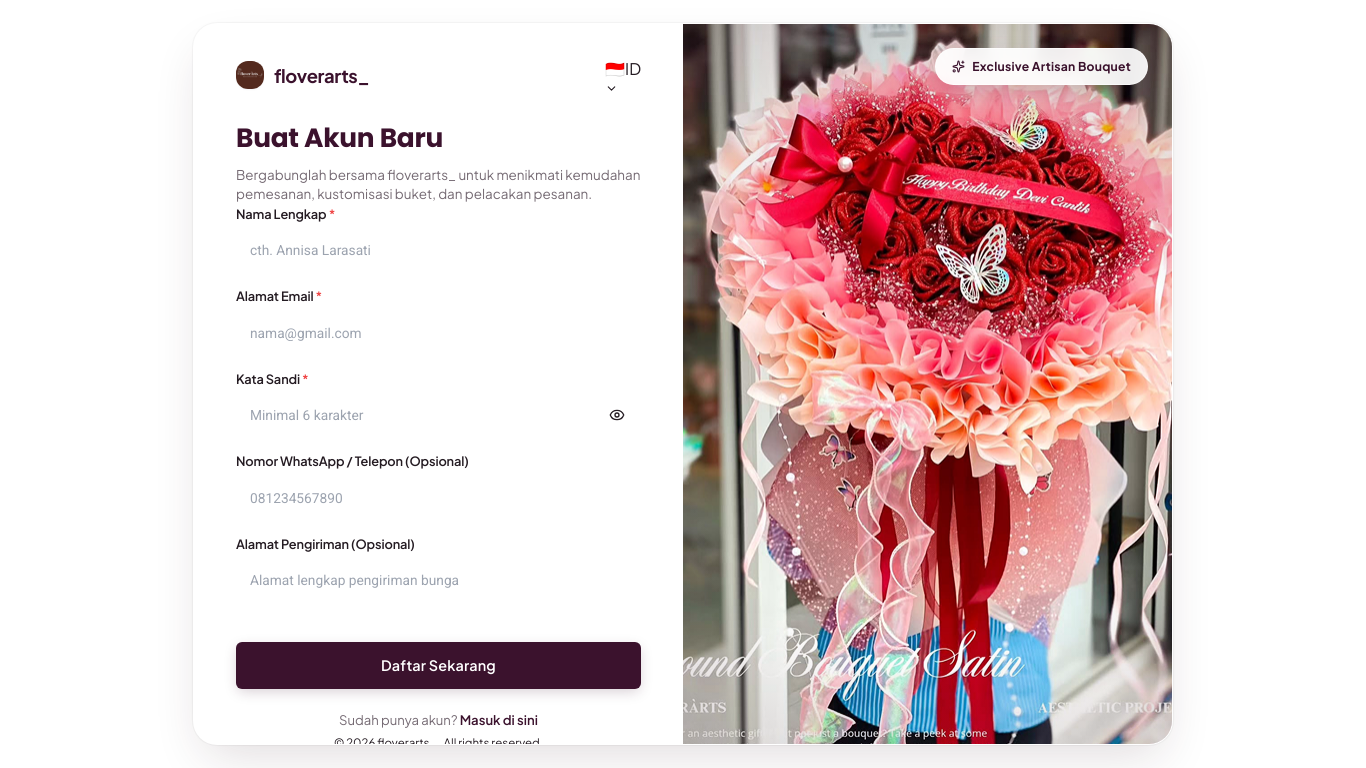
RegisterForm Component › harus memvalidasi field yang kosong secara defensif
Click the button "Daftar Sekarang" at [438, 666], box x1=236 y1=642 x2=641 y2=689
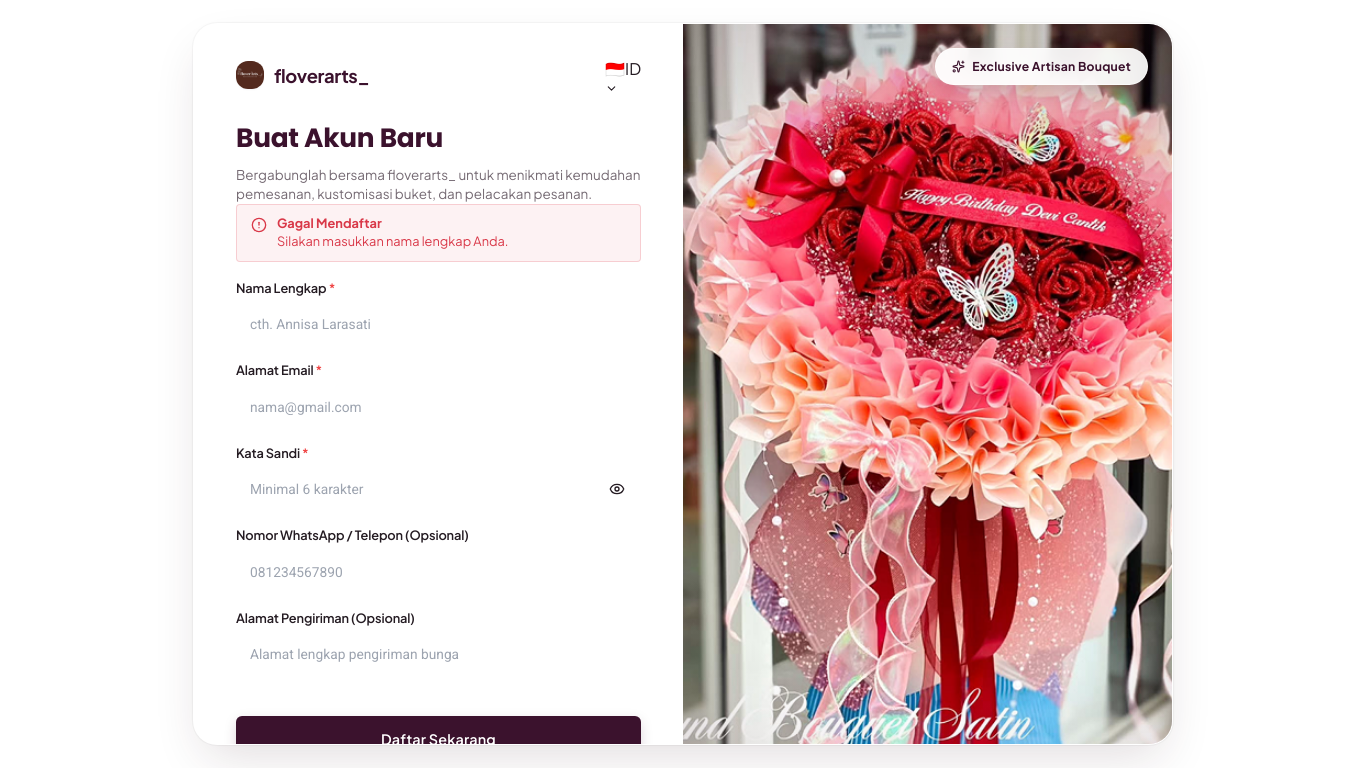
Now the text "Silakan masukkan nama lengkap Anda." is shown, box x1=277 y1=233 x2=508 y2=251
